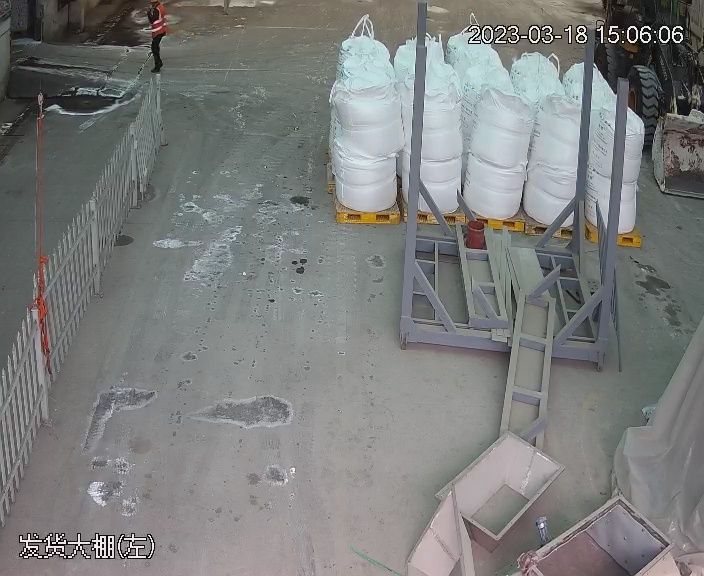head: (147, 1, 167, 19)
helmet: (148, 1, 160, 2)
people: (144, 1, 170, 73)
